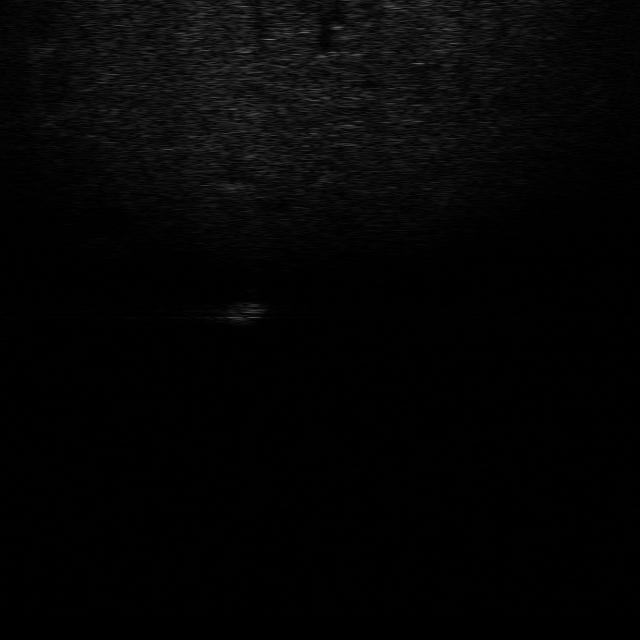human body: (216, 303, 268, 328)
